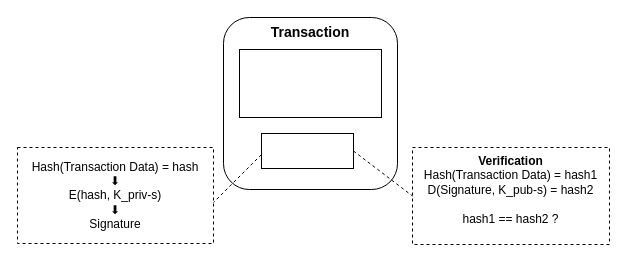
Some shapes in this 627 by 262 pixel diagram are drawn without their labels. Each missing label, with the centre of its shape:
"Signature" belongs at (x=307, y=150).
"Transaction Data Sender public key Reciever public key Amount: ..." belongs at (x=310, y=83).
